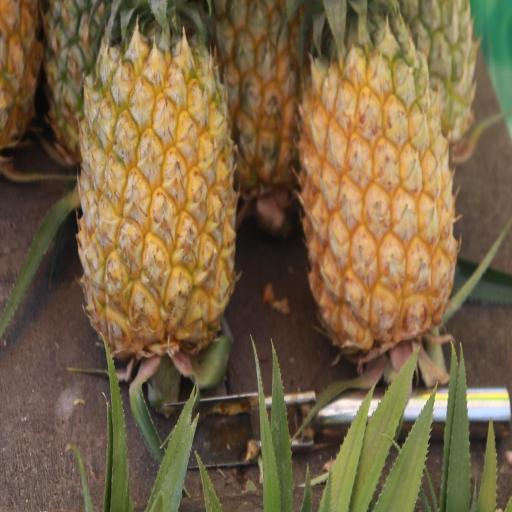Pineapple - v8 v1: (72, 0, 243, 397), (294, 0, 464, 375)
